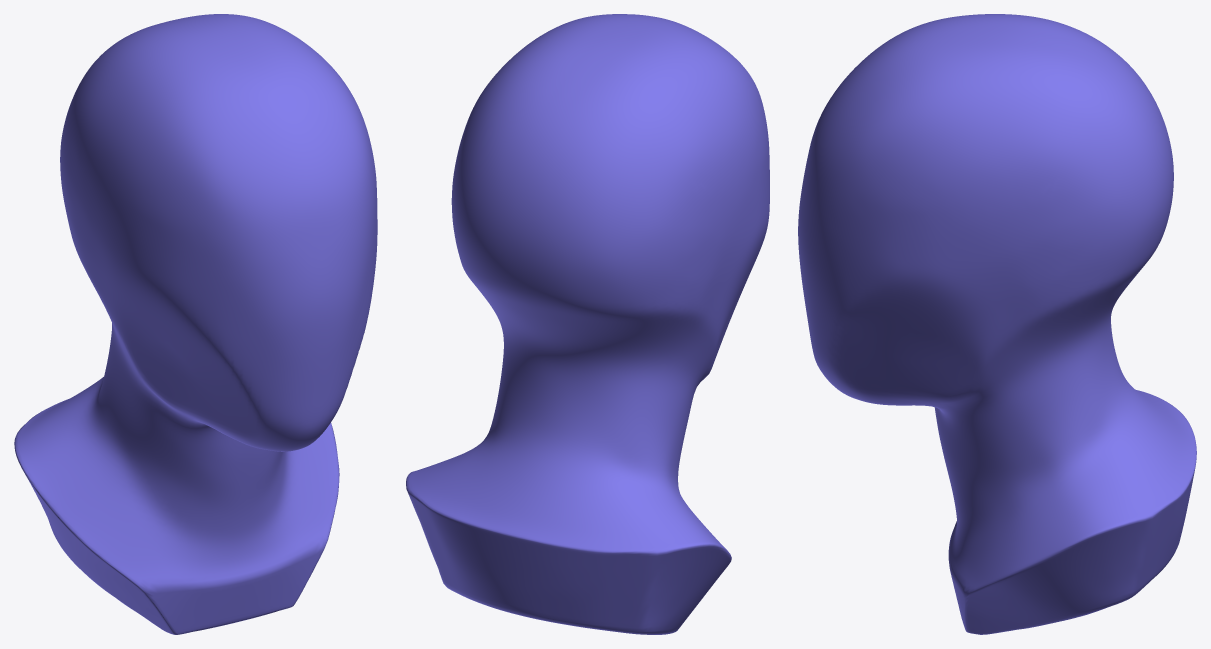
The model's file is chmil_mannequin_bust_2024.glb.
The picture shows the model from 3 angles, left to right: view 1: azimuth 30°, elevation 25°; view 2: azimuth 150°, elevation 25°; view 3: azimuth 270°, elevation 25°; orthographic projection.
Visible parts, largest first — view 1: final_for_upload; view 2: final_for_upload; view 3: final_for_upload.
Part boxes in pixels (x1,y1,x2,y2): final_for_upload: (14, 14, 377, 634); final_for_upload: (406, 14, 769, 634); final_for_upload: (798, 14, 1196, 634).
Bounding box in the file's own units: 0.3707 × 0.6857 × 0.4335.
